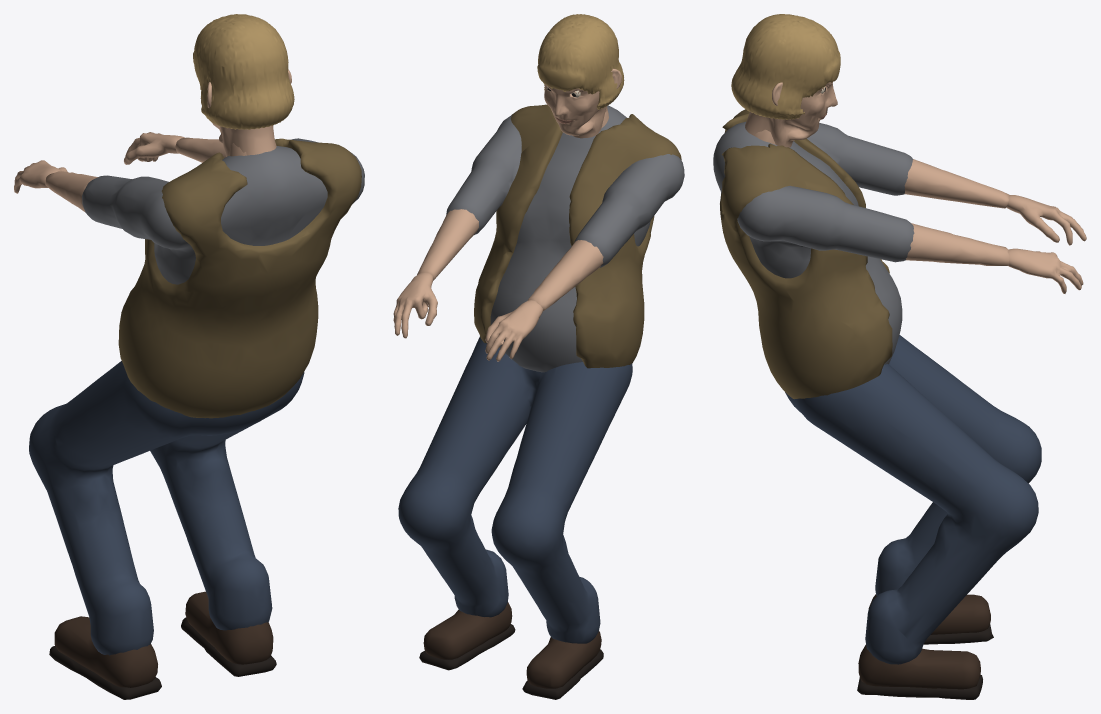
File: esso_day.glb
3 renders of one model, left to right at view 1: azimuth 30°, elevation 25°; view 2: azimuth 150°, elevation 25°; view 3: azimuth 270°, elevation 25°, orthographic. The views are drawn at different scales.
Visible parts, largest first — view 1: esso_day_body, esso_day_head, esso_day_hands; view 2: esso_day_body, esso_day_head, esso_day_hands; view 3: esso_day_body, esso_day_head, esso_day_hands.
Boxes of the visible parts, x1,y1,x2,y2 form: esso_day_body: [29, 137, 364, 699]; esso_day_head: [193, 14, 294, 156]; esso_day_hands: [14, 132, 184, 193]; esso_day_body: [398, 104, 684, 699]; esso_day_head: [537, 14, 624, 138]; esso_day_hands: [393, 272, 542, 361]; esso_day_body: [713, 109, 1041, 699]; esso_day_head: [731, 14, 840, 147]; esso_day_hands: [1006, 195, 1086, 293].
Size of the model in its own units: 0.4526 by 1.42 by 0.7448.
